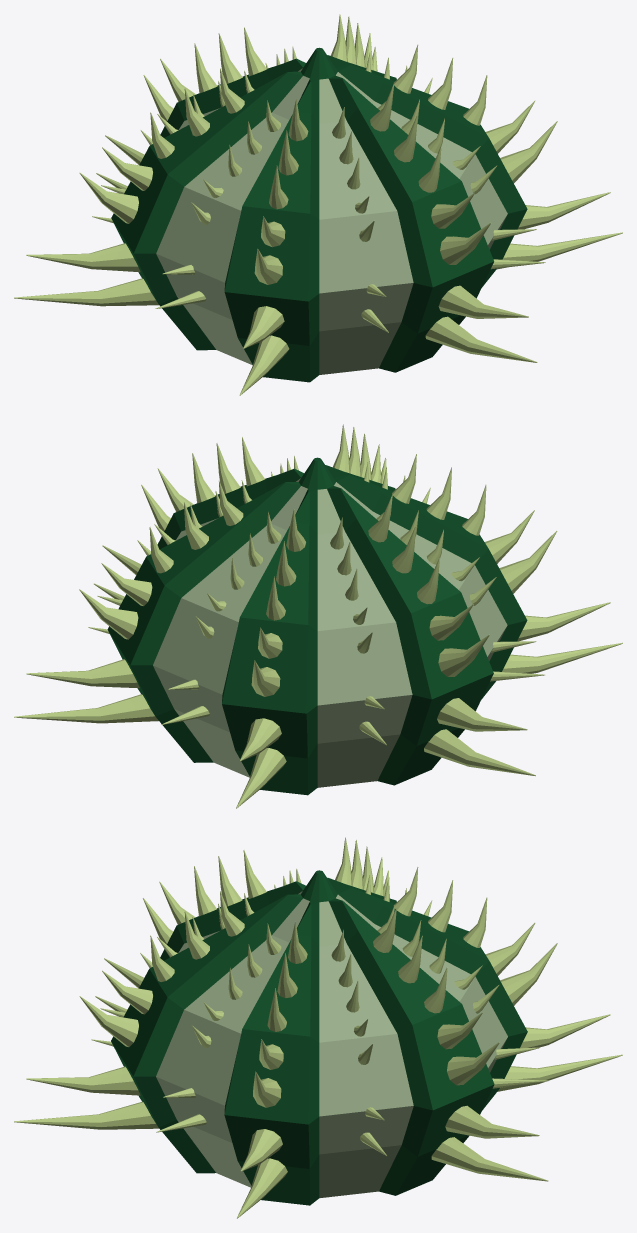
File: Ball_Cactus_Single_and_Top.fbx
3 views of the same model, one above another, from view 1: azimuth 30°, elevation 25°; view 2: azimuth 150°, elevation 25°; view 3: azimuth 270°, elevation 25° (orthographic).
Visible parts, largest first — view 1: Ball_Cactus_Single_and_Top; view 2: Ball_Cactus_Single_and_Top; view 3: Ball_Cactus_Single_and_Top.
Boxes of the visible parts, bbox=[...] form: Ball_Cactus_Single_and_Top: bbox=[14, 14, 622, 395]; Ball_Cactus_Single_and_Top: bbox=[14, 424, 622, 808]; Ball_Cactus_Single_and_Top: bbox=[14, 837, 622, 1218].
Bounding box in the file's own units: 2.07 × 2.08 × 1.04.
